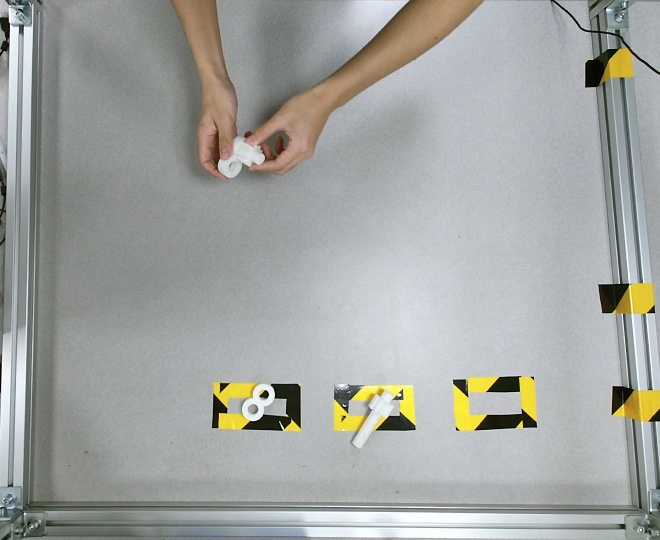stage_2: (217, 137, 266, 177)
